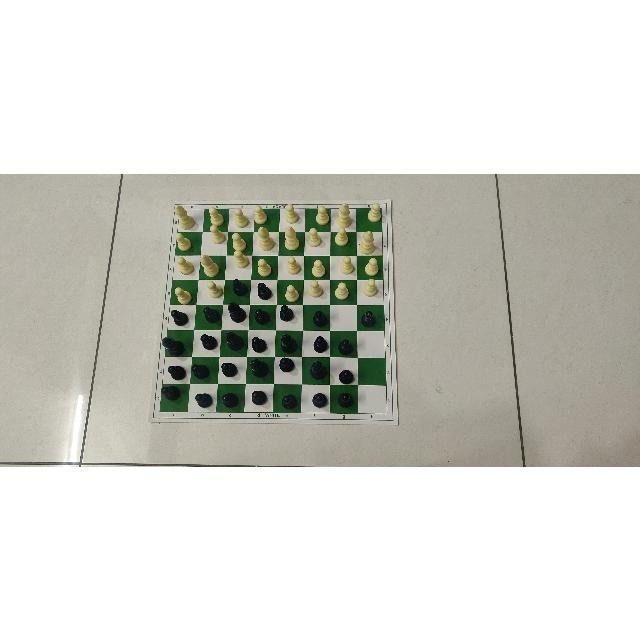black-bishop: (160, 335, 185, 355), (227, 300, 247, 323), (225, 329, 245, 351), (249, 357, 269, 378), (309, 359, 327, 379), (279, 332, 296, 352)
black-pawn: (201, 305, 221, 323), (190, 362, 209, 380), (167, 362, 187, 379), (231, 278, 249, 296), (250, 335, 269, 352), (161, 385, 181, 401), (337, 391, 355, 408), (256, 280, 272, 299), (279, 303, 295, 322), (194, 392, 214, 407), (253, 306, 270, 323), (281, 392, 298, 409), (169, 309, 187, 325), (221, 392, 239, 408), (199, 334, 218, 349), (313, 308, 328, 327), (361, 309, 377, 326), (250, 389, 268, 404), (314, 333, 328, 352), (339, 338, 355, 354), (338, 368, 354, 384), (221, 360, 237, 376), (313, 392, 329, 407), (279, 356, 295, 371)
white-bishop: (173, 201, 196, 228), (199, 253, 220, 276), (257, 224, 275, 250), (281, 225, 299, 249), (358, 230, 376, 254), (335, 201, 352, 225)
white-pawn: (208, 222, 226, 243), (173, 284, 192, 303), (174, 231, 192, 251), (310, 257, 327, 278), (252, 202, 268, 224), (306, 227, 323, 247), (233, 206, 249, 227), (176, 256, 194, 274), (206, 280, 224, 298), (284, 202, 300, 222), (339, 254, 355, 274), (334, 280, 350, 300), (207, 206, 224, 224), (232, 249, 249, 267), (256, 256, 272, 275), (333, 225, 348, 245), (364, 255, 379, 275), (284, 282, 299, 302), (362, 278, 378, 296), (307, 279, 323, 297), (368, 201, 382, 221), (287, 254, 301, 274), (315, 204, 328, 224)
